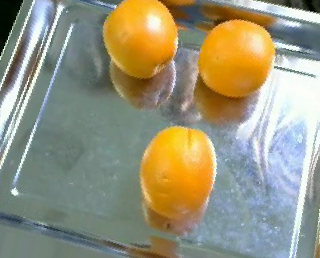Orange: (140, 125, 217, 219), (198, 17, 277, 98), (102, 1, 178, 79)
